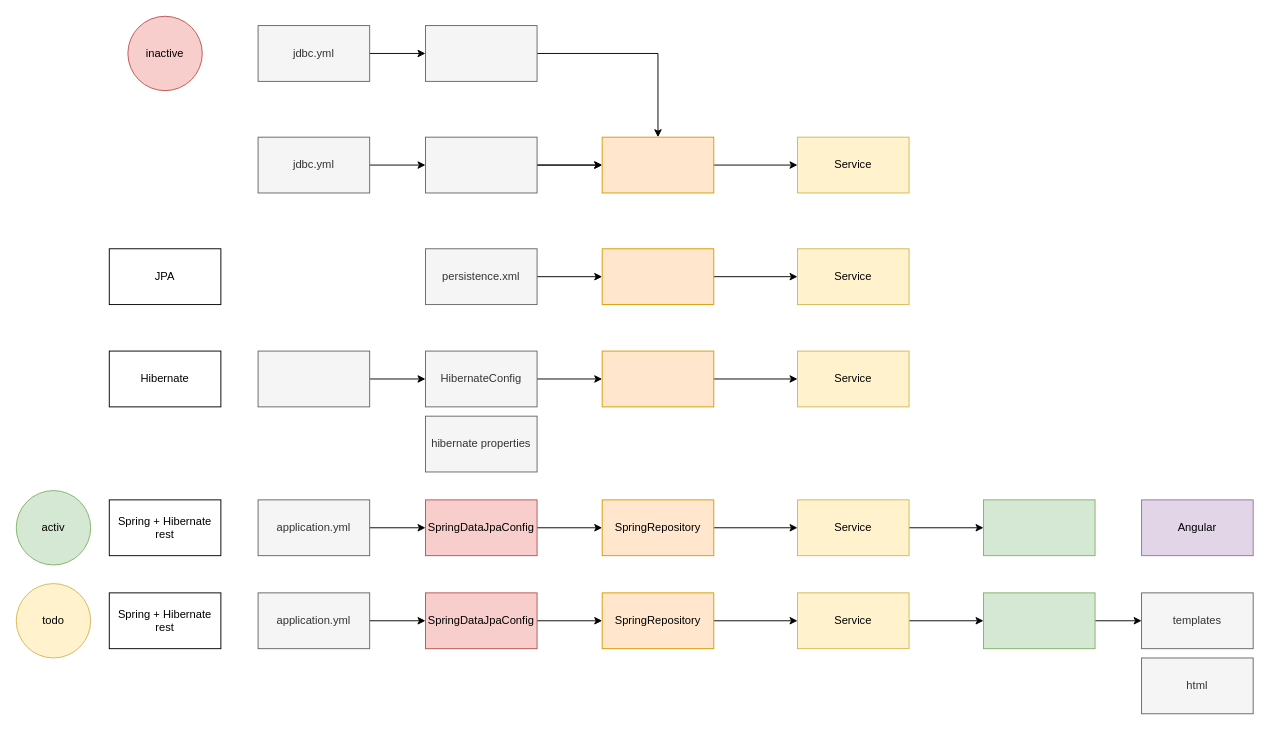
Some shapes in this 1269 by 730 pixel diagram are drawn without their labels. The centre of each missing label's shape, as x and y in pixels:
"hibernate.yml" belongs at (313,378).
"HibernateDao" belongs at (657,378).
"JdbcConfig" belongs at (481,53).
"JdbcDao" belongs at (657,164).
"JpaDao" belongs at (657,276).
"PropertiesLoader" belongs at (481,164).
"RestController" belongs at (1039,527).
"ThymeleafController" belongs at (1039,620).
